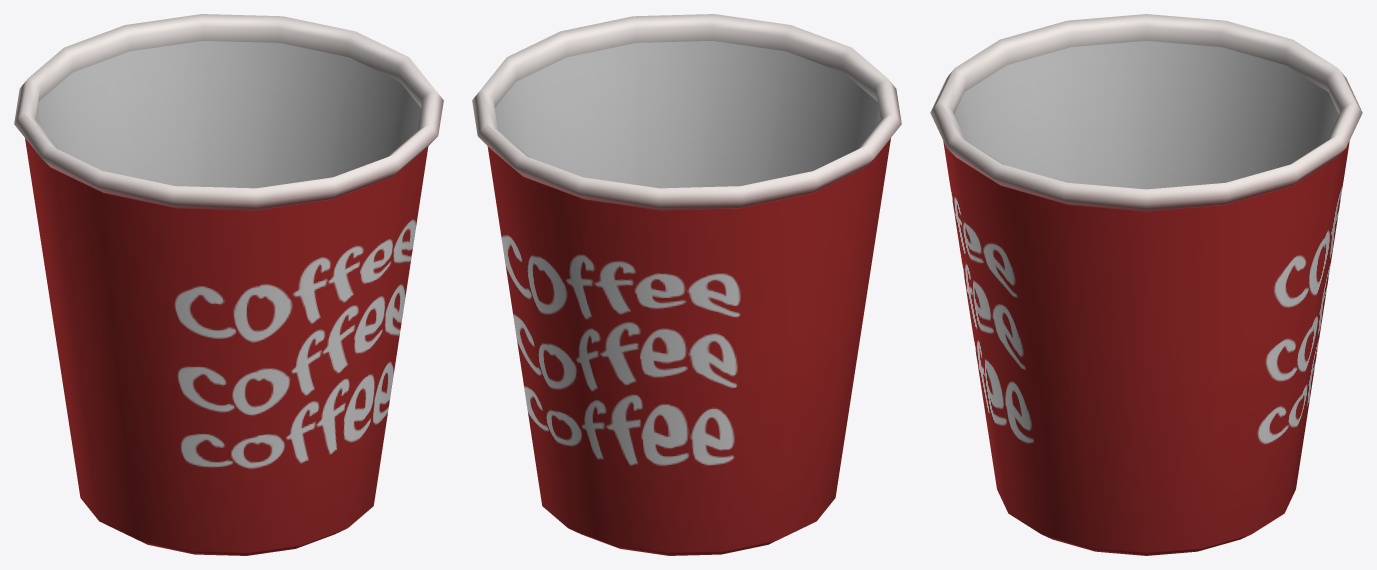
Rendered from ToGo_Cup_Sm_01.fbx.
3 renders of one model, left to right at view 1: azimuth 30°, elevation 25°; view 2: azimuth 150°, elevation 25°; view 3: azimuth 270°, elevation 25°, orthographic.
Visible parts, largest first — view 1: ToGo_Cup_Sm_01; view 2: ToGo_Cup_Sm_01; view 3: ToGo_Cup_Sm_01.
Part boxes in pixels (x1=…): ToGo_Cup_Sm_01: x1=14, y1=14, x2=443, y2=555; ToGo_Cup_Sm_01: x1=472, y1=14, x2=901, y2=555; ToGo_Cup_Sm_01: x1=930, y1=14, x2=1362, y2=555.
Size of the model in its own units: 51.68 by 52.47 by 51.68.
